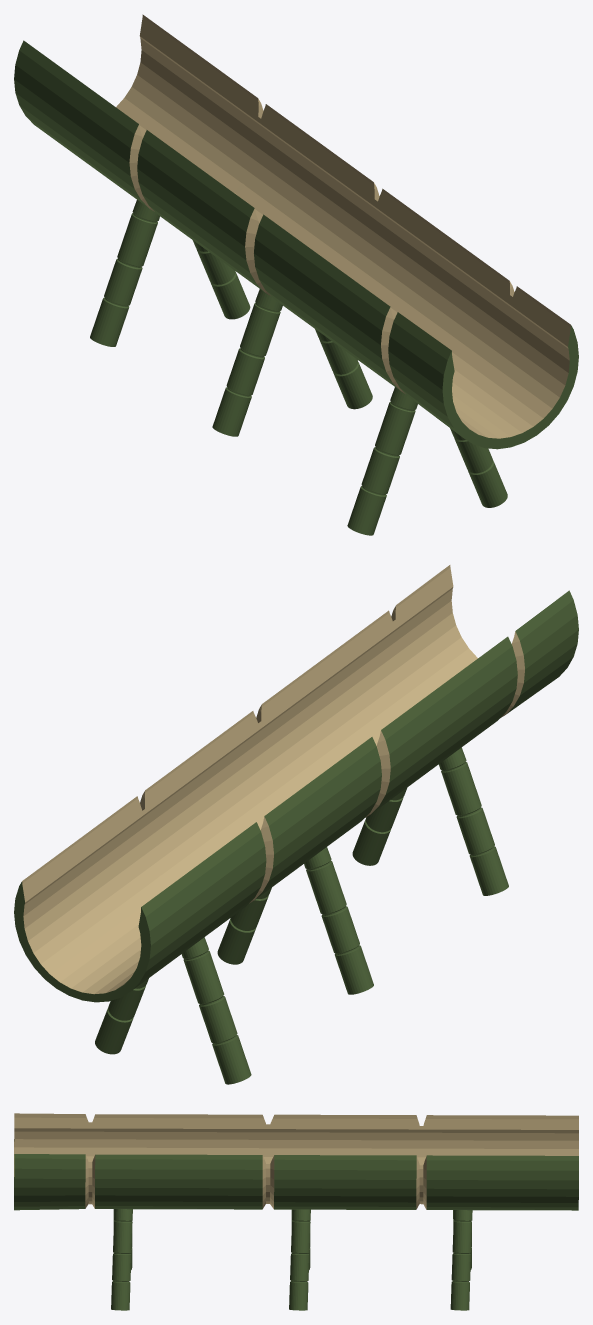
File: récolte sève 2.fbx
3 renders of one model, top to bottom at view 1: azimuth 30°, elevation 25°; view 2: azimuth 150°, elevation 25°; view 3: azimuth 270°, elevation 25°, orthographic. The views are drawn at different scales.
Parts seen in each view (by area): view 1: Cylindre.002; view 2: Cylindre.002; view 3: Cylindre.002.
Part boxes in pixels (x1,y1,x2,y2): Cylindre.002: [14, 14, 578, 535]; Cylindre.002: [14, 565, 578, 1084]; Cylindre.002: [14, 1113, 578, 1310].
Bounding box in the file's own units: 1261 × 1891 × 6063.
